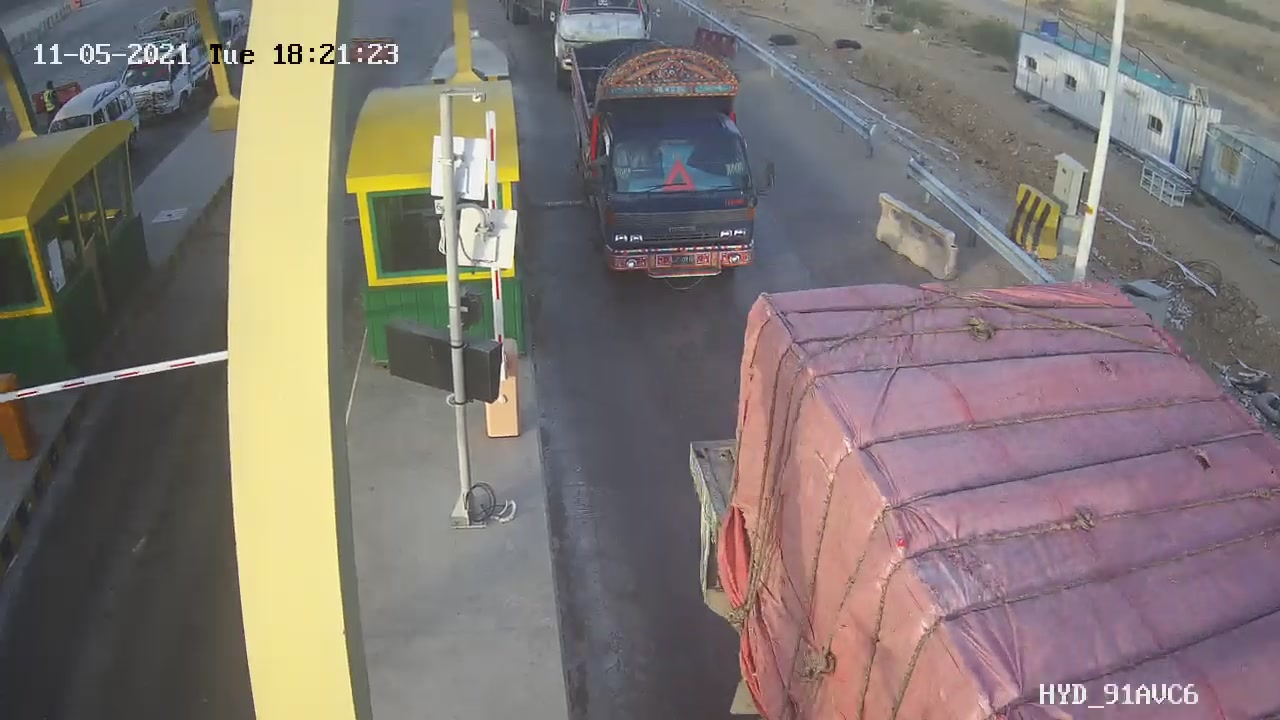F5: (564, 38, 780, 286)
